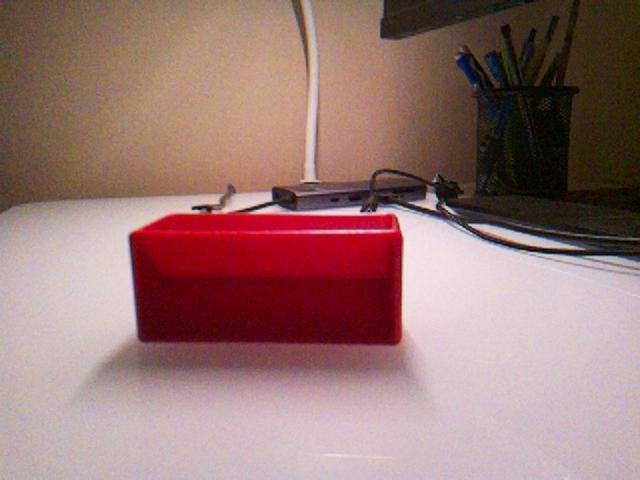red: (128, 211, 405, 346)
